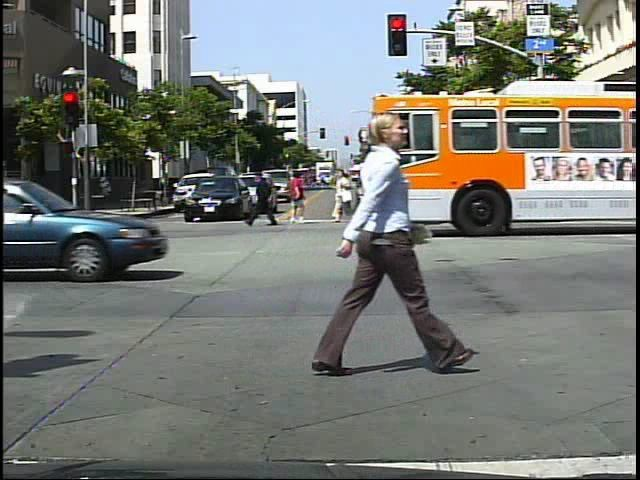person: (303, 85, 432, 384), (336, 164, 369, 228), (251, 165, 280, 233), (283, 166, 311, 229), (550, 160, 573, 211)
